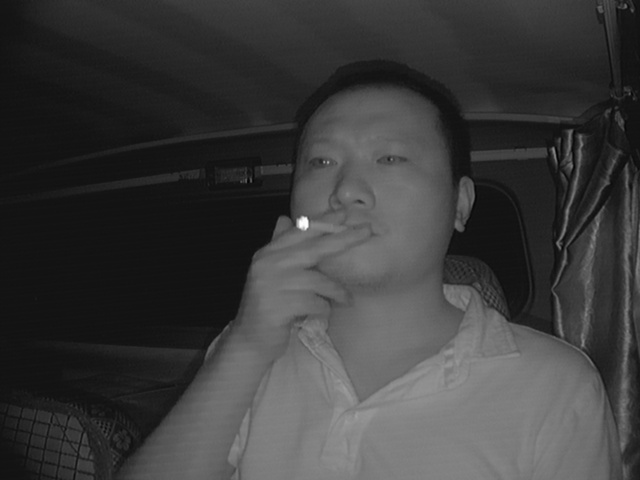hand: (237, 207, 365, 342)
